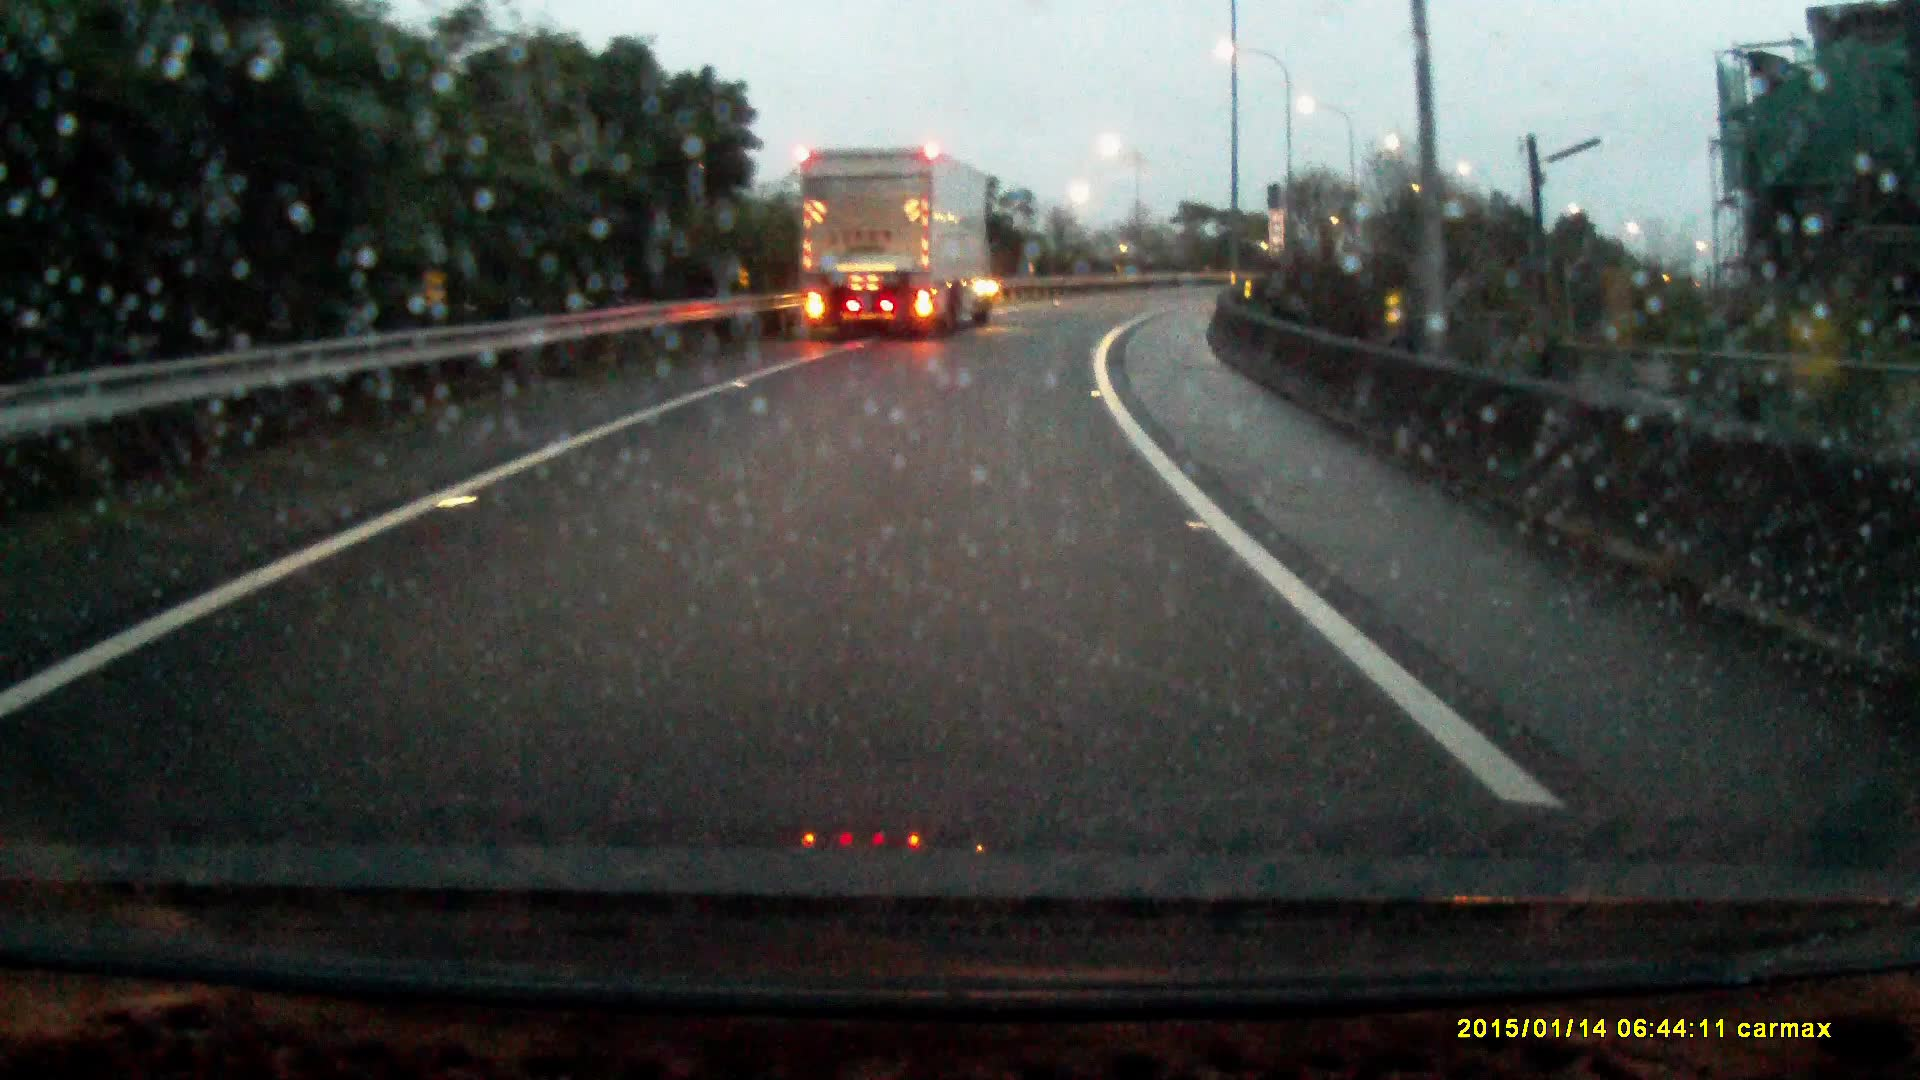vehicle: (804, 152, 996, 344)
